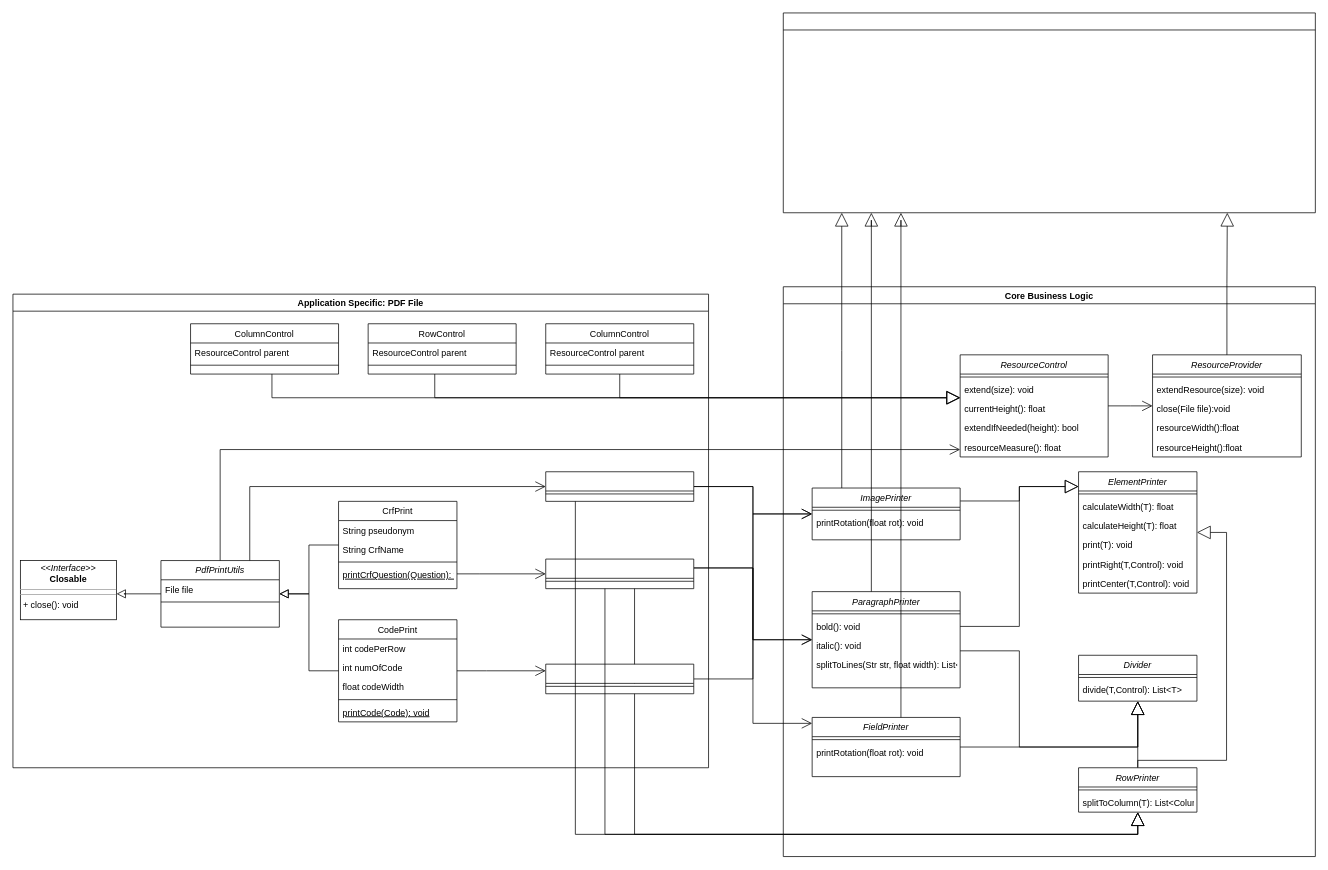
This 1328x870 diagram has some shape labels left out. The centre of each missing label's shape, as x and y in pixels:
"CodeRowPrinter" goes at point (619, 678).
"InformationPrinter" goes at point (619, 486).
"PDFBox Implementation" goes at point (1049, 112).
"QuestionPrinter" goes at point (619, 573).
